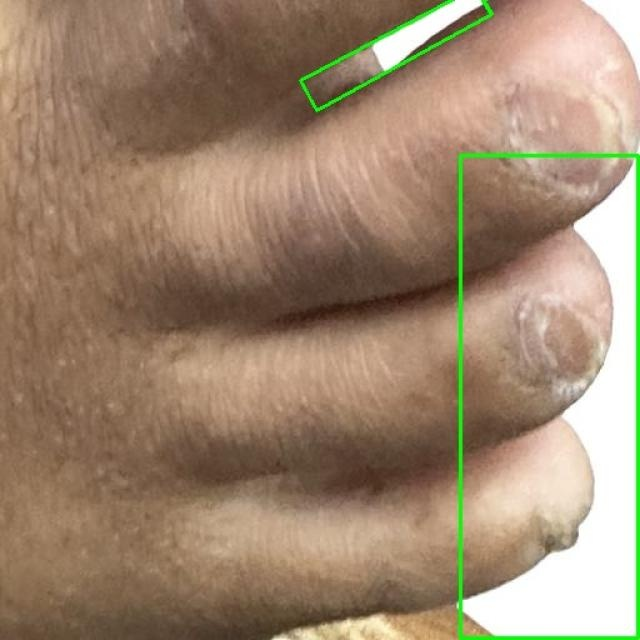Tinea Corporis: (461, 155, 639, 639), (301, 0, 492, 110)
